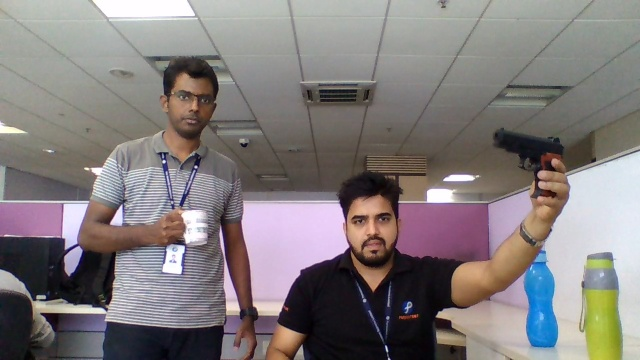gun: (493, 128, 564, 158)
